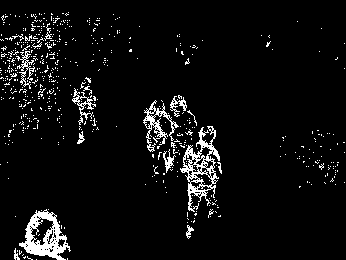person: (181, 121, 225, 241), (140, 97, 174, 175), (167, 90, 197, 169), (71, 76, 100, 148)
